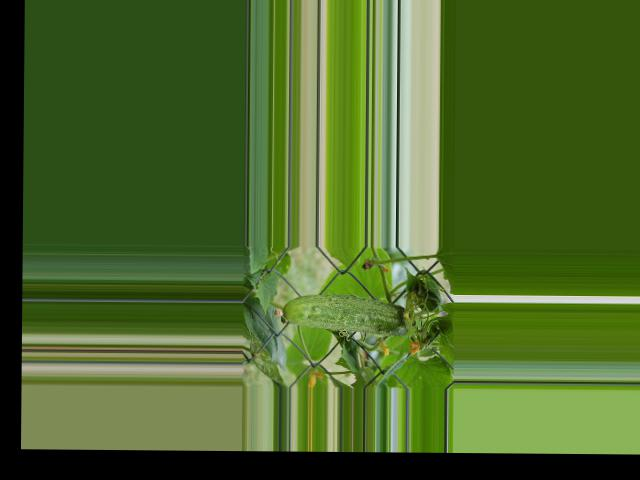cucumber: (274, 294, 415, 335)
